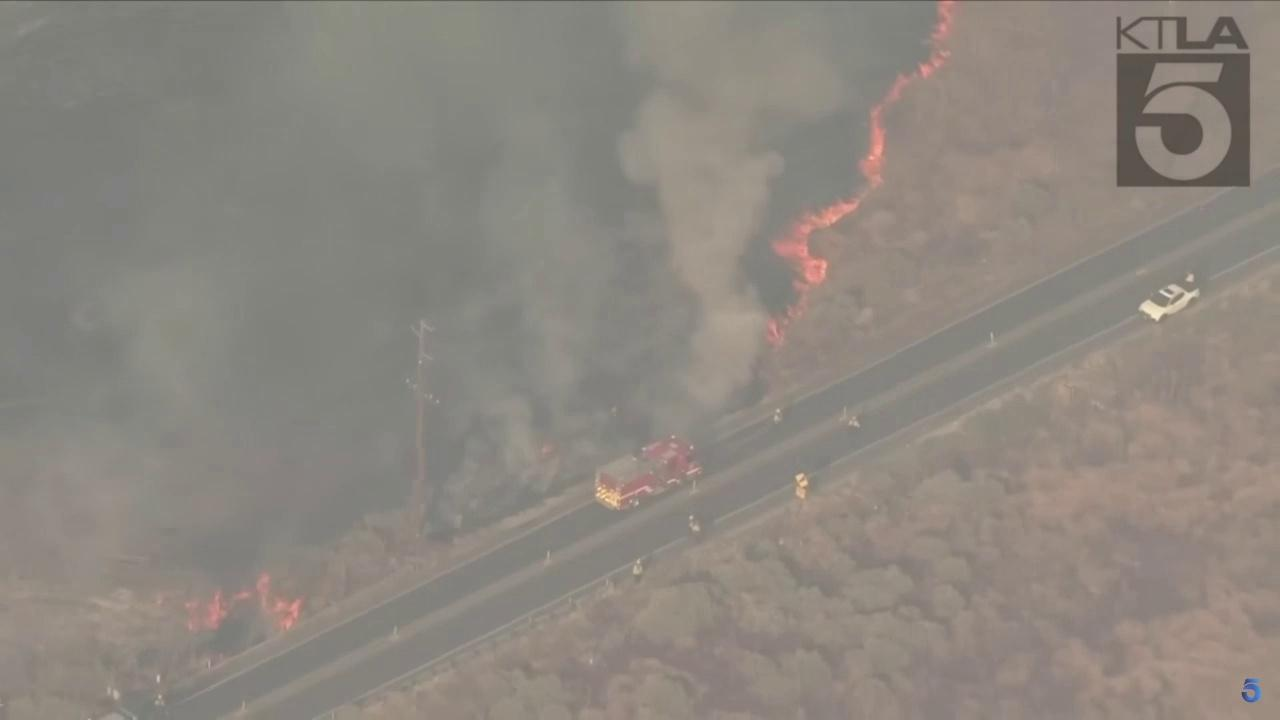fire: (763, 0, 954, 346), (182, 571, 302, 644)
smoke: (0, 0, 944, 647)
